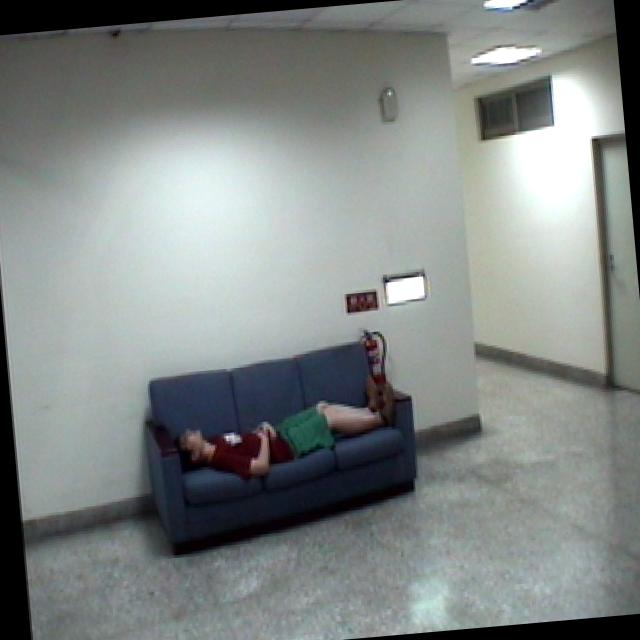lie: (169, 365, 402, 488)
